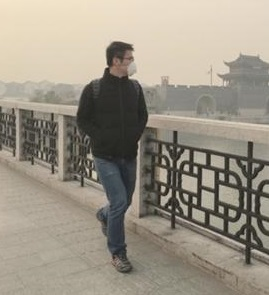person: (74, 39, 153, 276)
